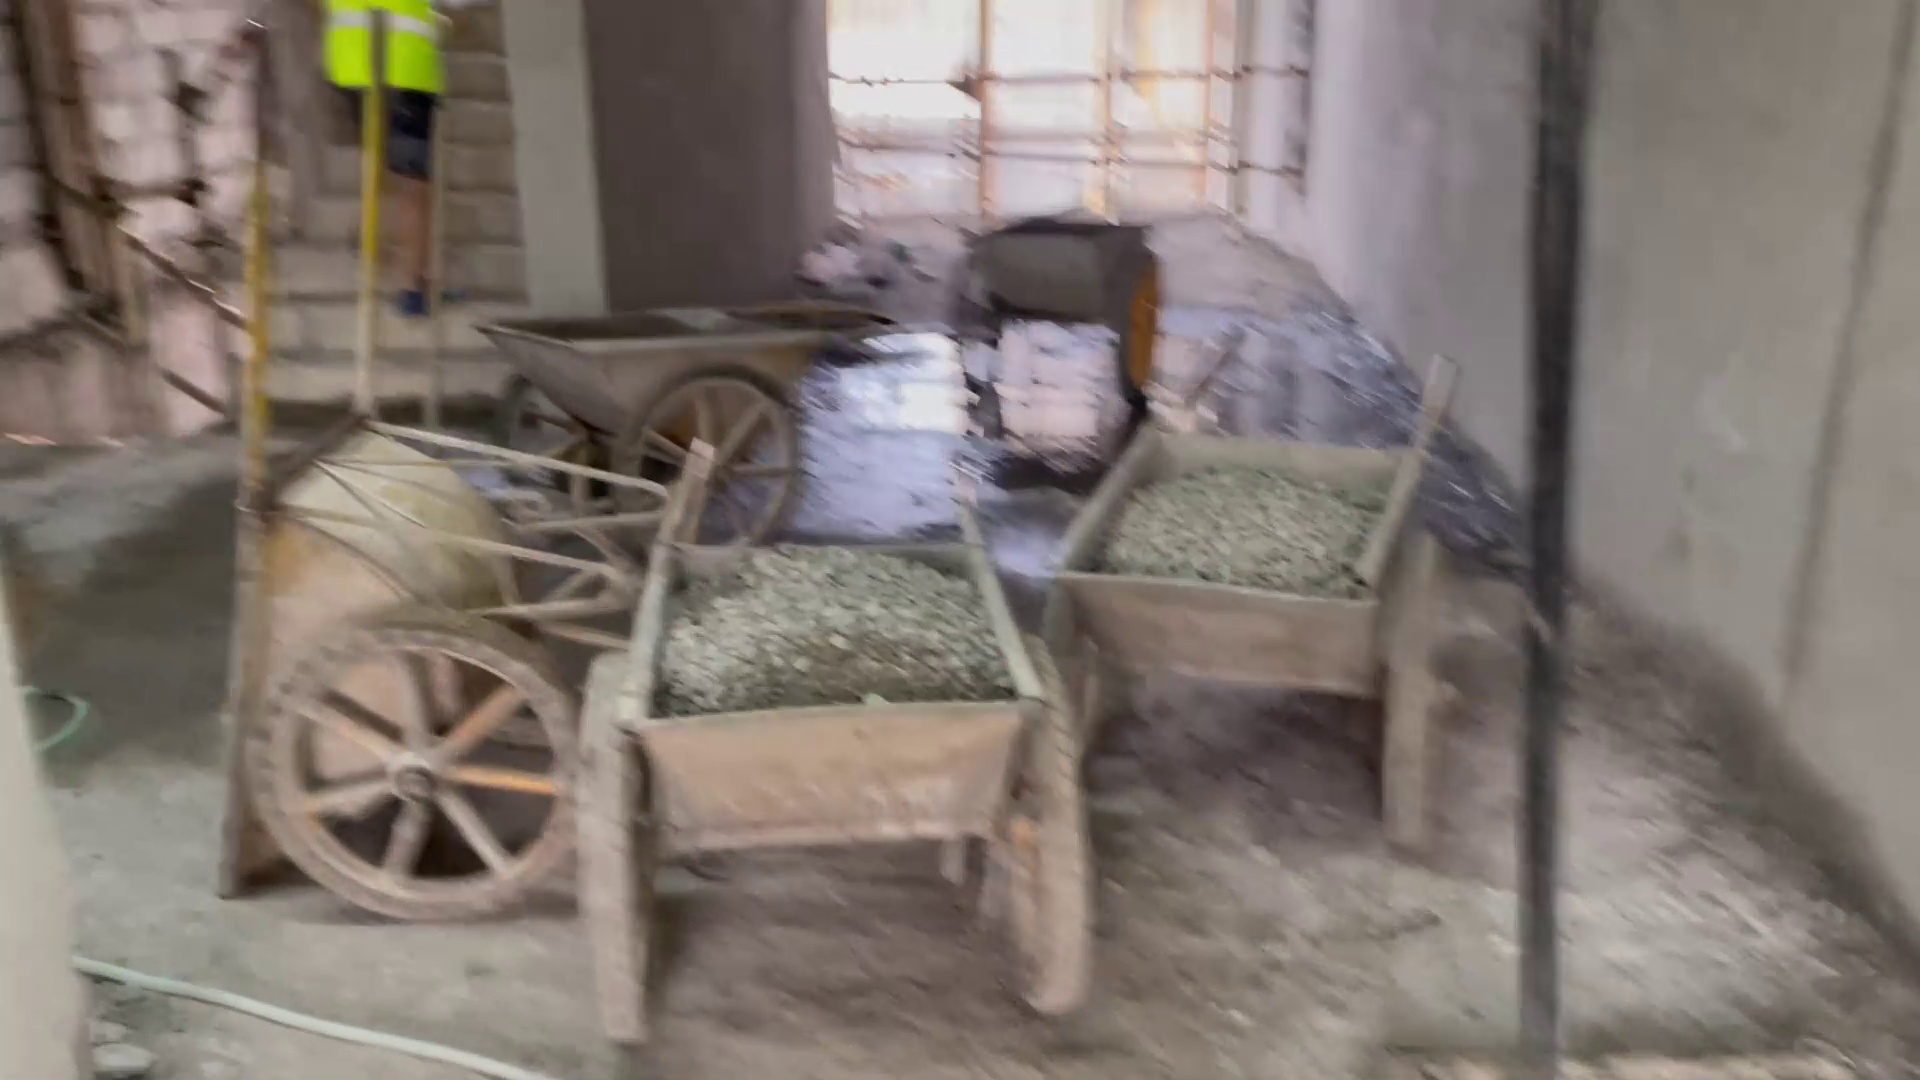handcart: (565, 435, 1107, 1028), (215, 150, 611, 934), (1049, 323, 1464, 838), (473, 291, 903, 563), (923, 187, 1170, 396)
person: (310, 1, 448, 329)
vest: (321, 1, 447, 108)
